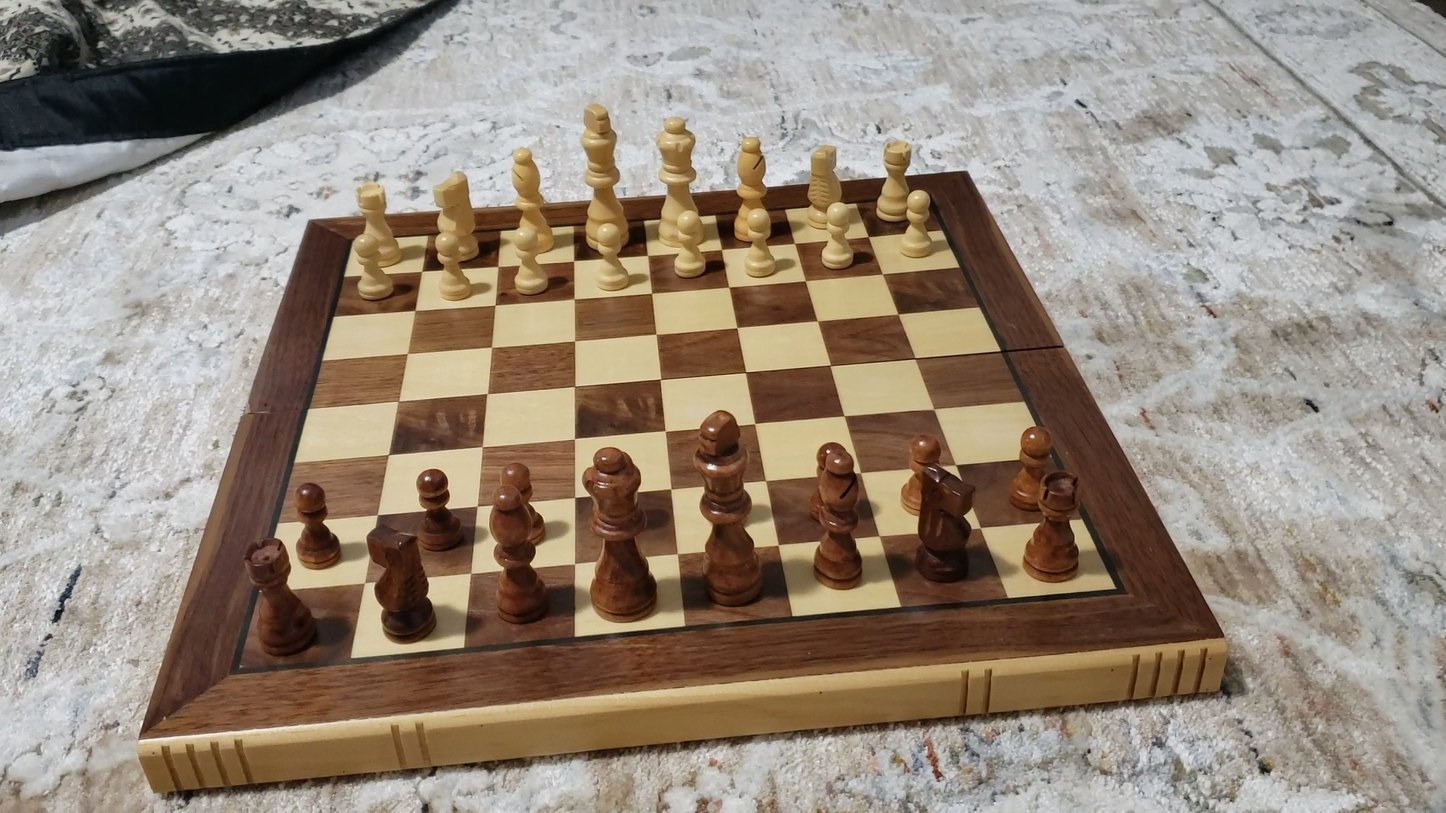black-bishop: (488, 458, 550, 626), (808, 439, 864, 588)
black-king: (688, 404, 768, 611)
black-knight: (900, 461, 977, 585), (367, 528, 437, 644)
black-pawn: (491, 457, 545, 549), (1007, 423, 1059, 513), (413, 465, 465, 553), (292, 480, 340, 570), (899, 431, 943, 516)
black-queen: (577, 445, 661, 625)
black-rook: (243, 536, 320, 659), (1022, 471, 1081, 583)
white-bishop: (507, 143, 553, 255), (731, 129, 772, 250)
white-king: (576, 97, 626, 255)
white-knight: (422, 165, 489, 260), (802, 139, 847, 233)
white-pawn: (341, 227, 398, 302), (583, 219, 637, 296), (427, 229, 481, 306), (503, 224, 556, 301), (813, 197, 863, 276), (664, 207, 713, 284), (734, 204, 782, 281), (895, 185, 942, 263)
white-queen: (654, 110, 702, 252)
white-rook: (348, 174, 405, 270), (871, 130, 916, 222)
